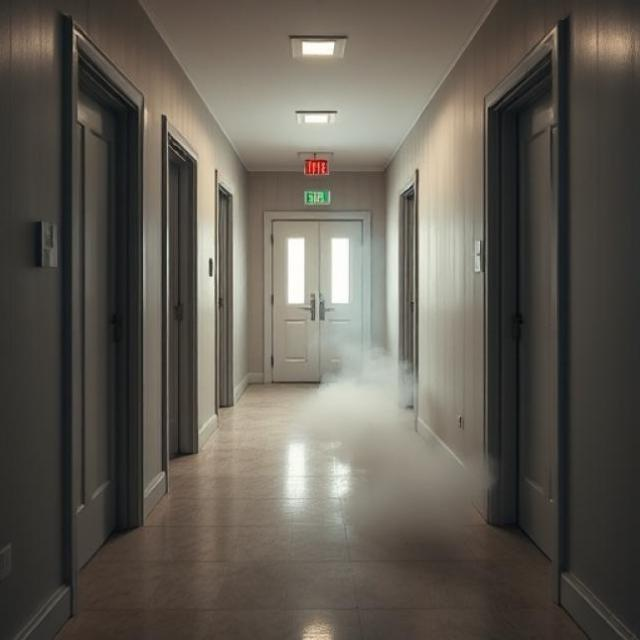fire: (310, 343, 496, 554)
